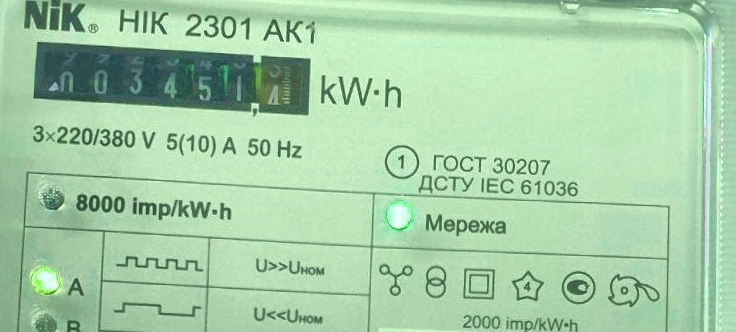0: (90, 66, 109, 95), (55, 66, 75, 93)
1: (230, 71, 246, 102)
3: (125, 64, 144, 95)
4: (159, 68, 179, 101), (262, 80, 282, 109)
5: (195, 71, 212, 102)
screen: (26, 35, 316, 122)
